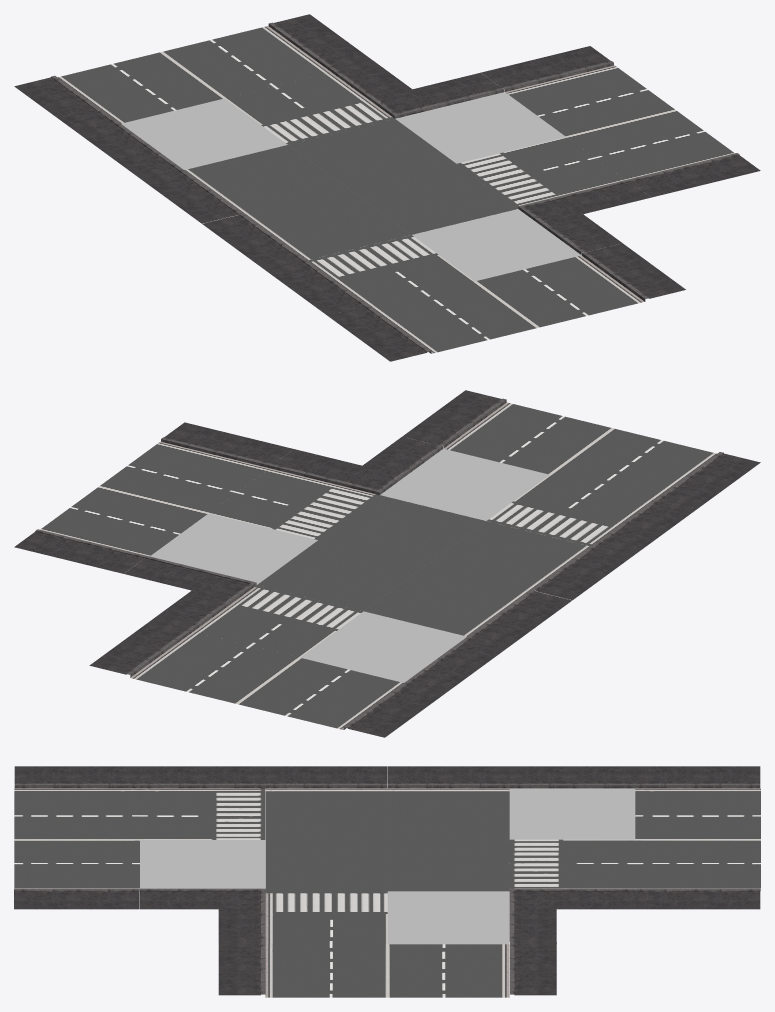
File: 4 lines T intersection - old.FBX
The picture shows the model from 3 angles, top to bottom: view 1: azimuth 30°, elevation 25°; view 2: azimuth 150°, elevation 25°; view 3: azimuth 270°, elevation 25°; orthographic projection.
Visible parts, largest first — view 1: Object070; view 2: Object070; view 3: Object070.
Boxes of the visible parts, x1,y1,x2,y2 form: Object070: [14, 14, 760, 361]; Object070: [14, 390, 760, 737]; Object070: [14, 766, 760, 997].
Size of the model in its own units: 51.94 by 0.3187 by 71.52.
